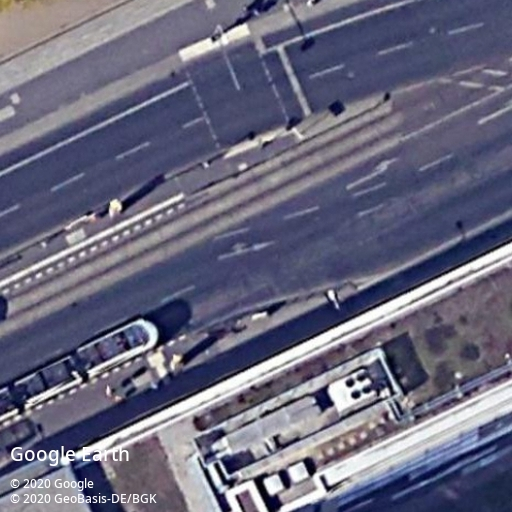Chiller: (327, 368, 378, 412)
